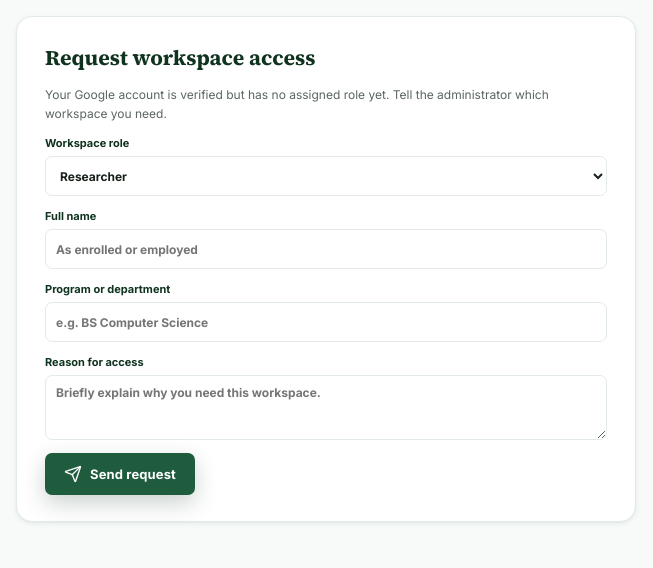
it: AccessRequestPanel › reports a duplicate request without claiming success
Click the button "Send request".
click(120, 474)  # box [45,453,195,495]
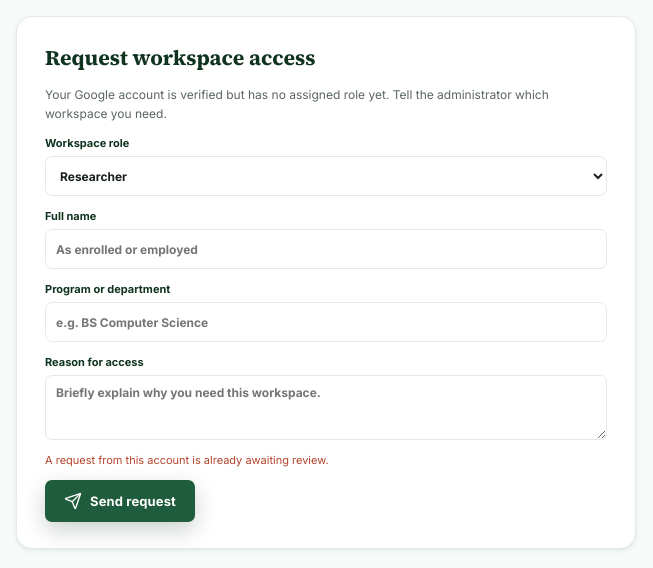
Expected: the message reads "A request from this account is already awaiting review.", [45,453,329,467]
